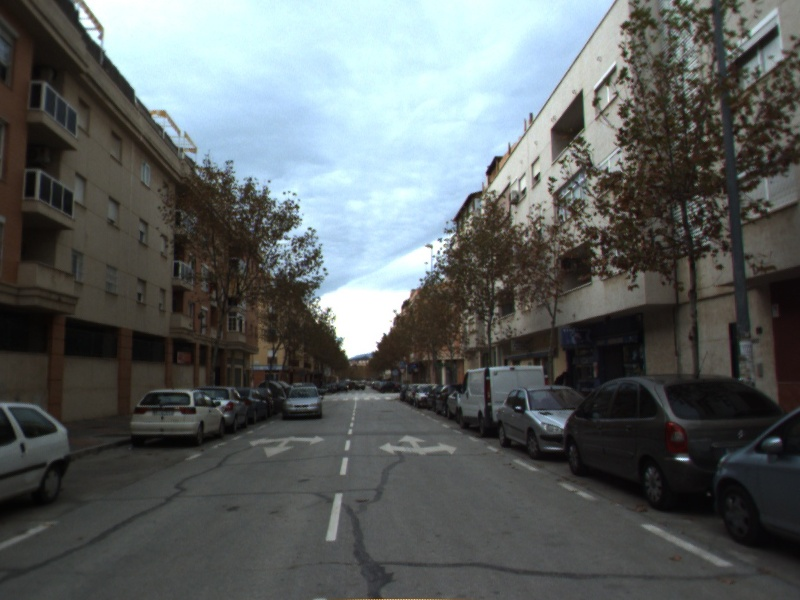STRAIGHT_LEFT_RIGHT: (377, 433, 459, 457)
